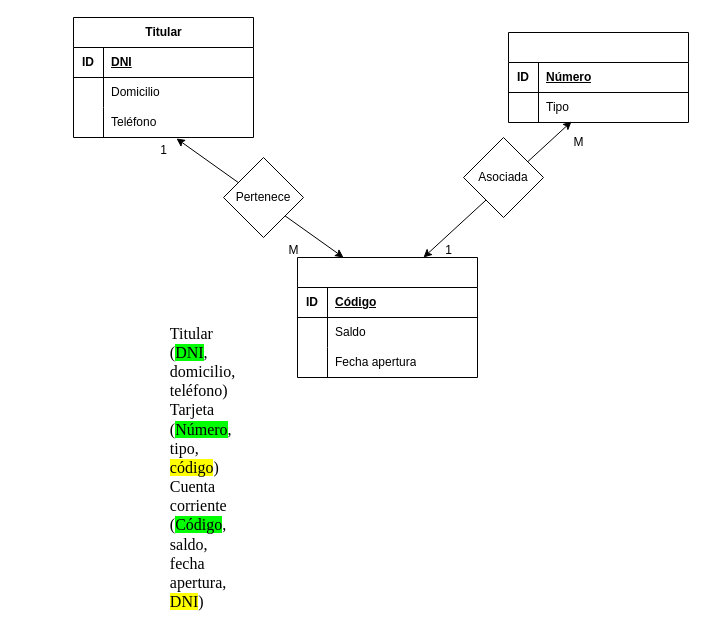
Some shapes in this 706 by 629 pixel diagram are drawn without their labels. The shapes that lost their labels are listed below. From the top down, each one's box as (x1, y1, x2, y2) in pixels, then its label:
(508, 32, 688, 122): Tarjeta
(296, 256, 478, 378): Cuenta corriente
